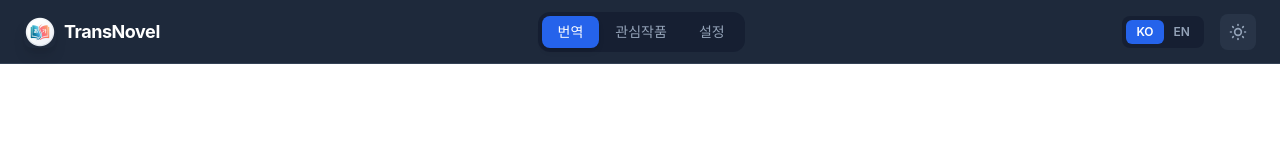
Test: Header › persists the selected language when switching from Korean to English
Click the button "EN" at [1182, 32], box [1164,20,1200,44]
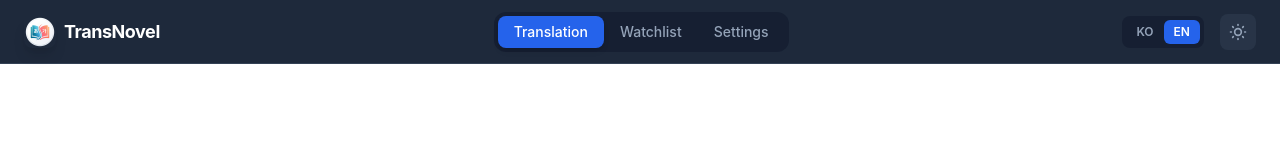
expect the text "Translation" is shown: met, box [514,22,588,42]
